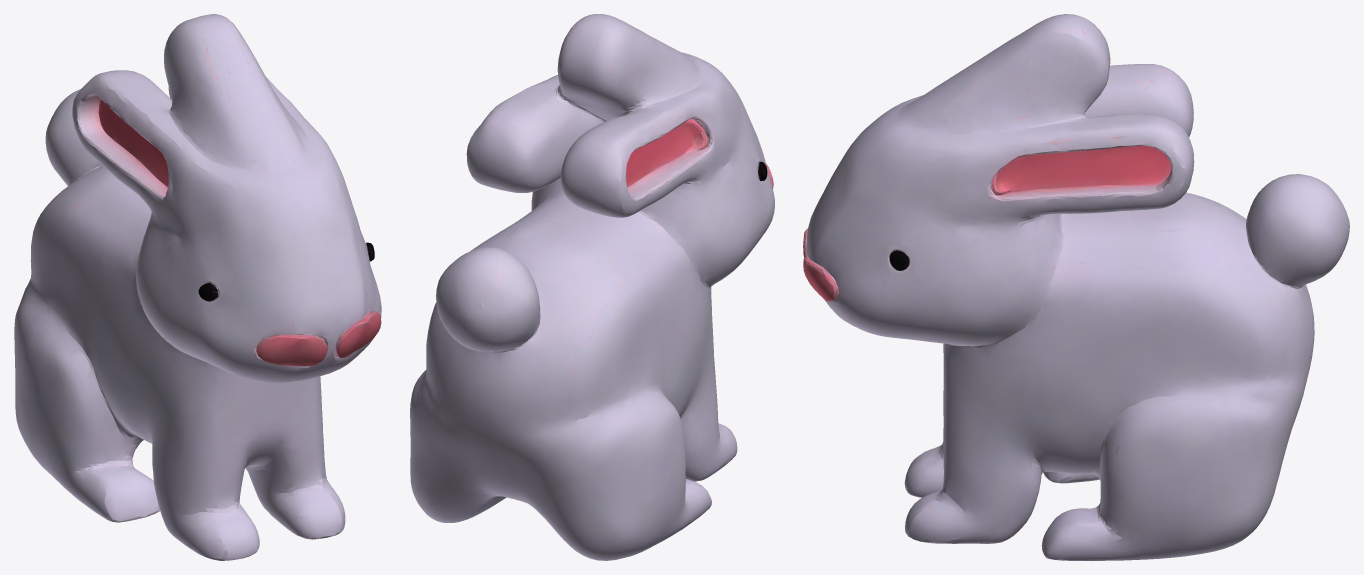
File: bunny.glb
3 views of the same model, side by side, from view 1: azimuth 30°, elevation 25°; view 2: azimuth 150°, elevation 25°; view 3: azimuth 270°, elevation 25° (orthographic). The views are drawn at different scales.
Parts seen in each view (by area): view 1: Mesh; view 2: Mesh; view 3: Mesh.
Boxes of the visible parts, x1,y1,x2,y2 form: Mesh: [14, 14, 381, 560]; Mesh: [410, 14, 774, 560]; Mesh: [803, 14, 1349, 560].
Size of the model in its own units: 0.5261 by 0.9899 by 1.
1 material, 1 textured.
